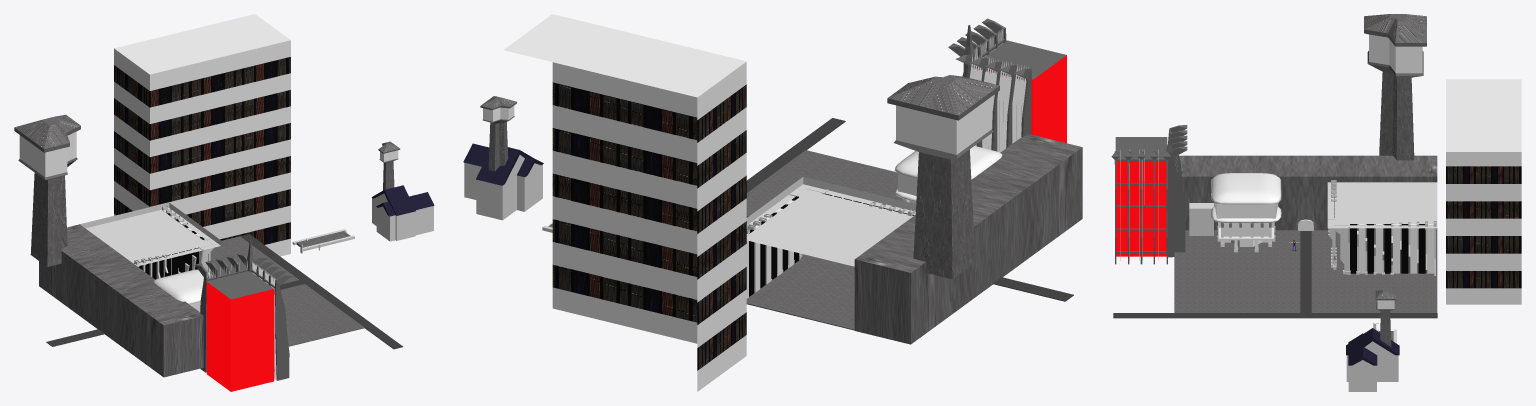
File: test enviornment1.glb
3 renders of one model, left to right at view 1: azimuth 30°, elevation 25°; view 2: azimuth 150°, elevation 25°; view 3: azimuth 270°, elevation 25°, orthographic. The views are drawn at different scales.
Visible parts, largest first — view 1: Cube.032; view 2: Cube.032; view 3: Cube.032.
Part boxes in pixels (x1,y1,x2,y2): Cube.032: (14,14,434,391); Cube.032: (463,14,1082,391); Cube.032: (1111,14,1521,391).
Bounding box in the file's own units: 257 × 129 × 213.
18 materials, 3 textured.
